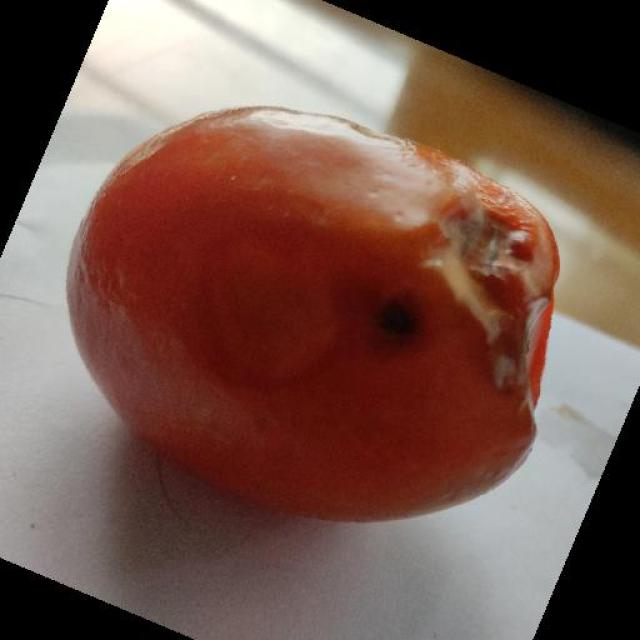Stale_tomato: (92, 102, 547, 509)
